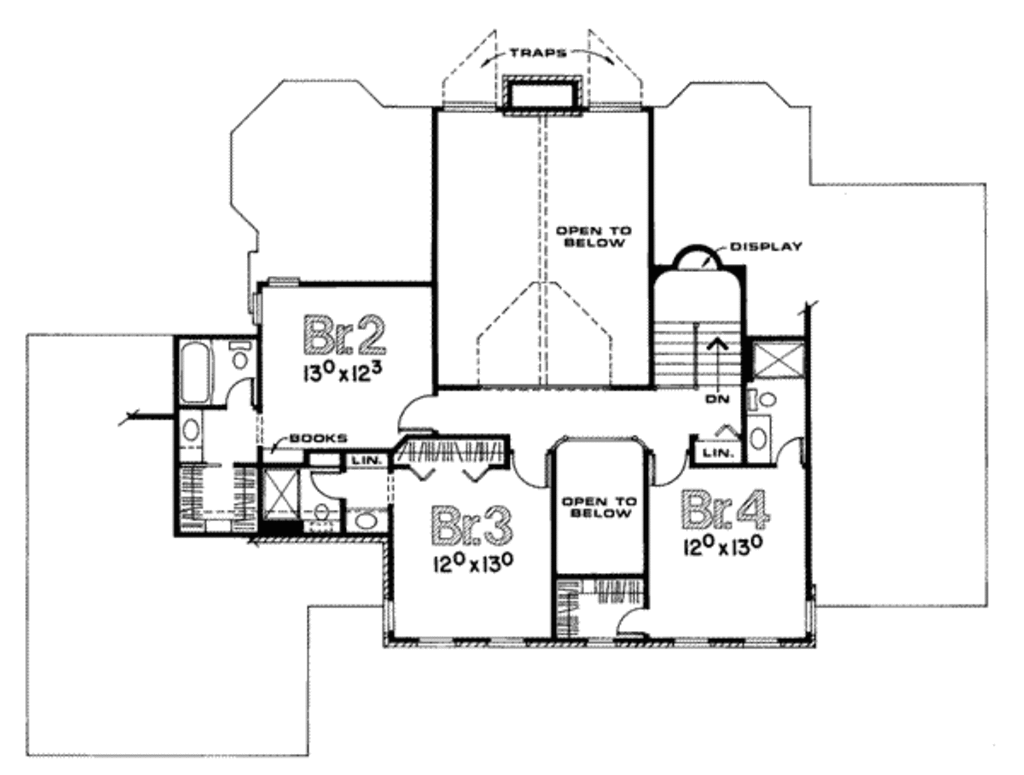door: (394, 390, 436, 437), (512, 449, 557, 492), (614, 603, 656, 642), (648, 450, 692, 487), (223, 377, 259, 416), (309, 468, 344, 499), (774, 439, 804, 469)
large_sink: (219, 337, 253, 375), (744, 384, 780, 417), (305, 503, 334, 537)
small_sink: (175, 407, 207, 467), (342, 506, 390, 537), (748, 415, 775, 467)
stairs: (650, 264, 745, 406)
tub: (173, 339, 215, 406)
window: (584, 96, 641, 117), (441, 99, 500, 117), (243, 291, 266, 334), (414, 631, 458, 652), (481, 634, 527, 651), (743, 637, 787, 654), (670, 634, 712, 650), (263, 274, 303, 289), (803, 598, 817, 639), (383, 597, 395, 639)
